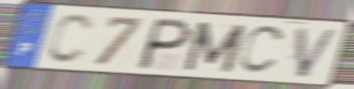7: (92, 15, 145, 69)
C: (235, 24, 288, 77), (44, 13, 96, 67)
M: (180, 20, 250, 75)
P: (133, 16, 196, 72)
V: (294, 26, 342, 80)
